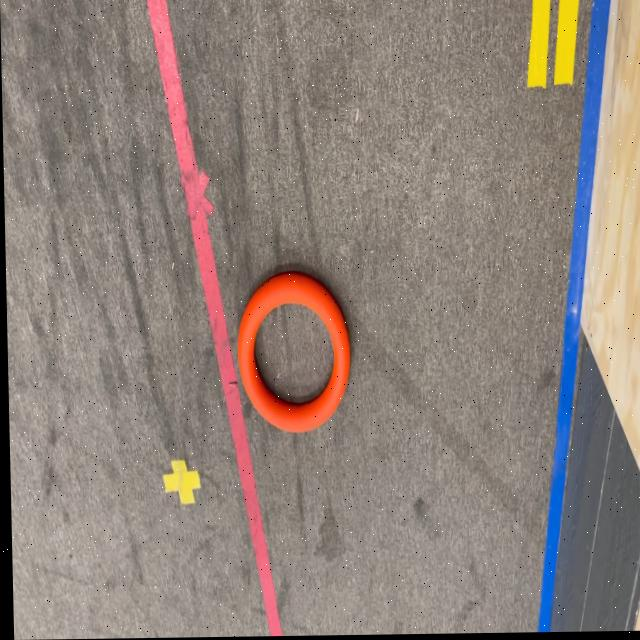note: (236, 267, 353, 429)
